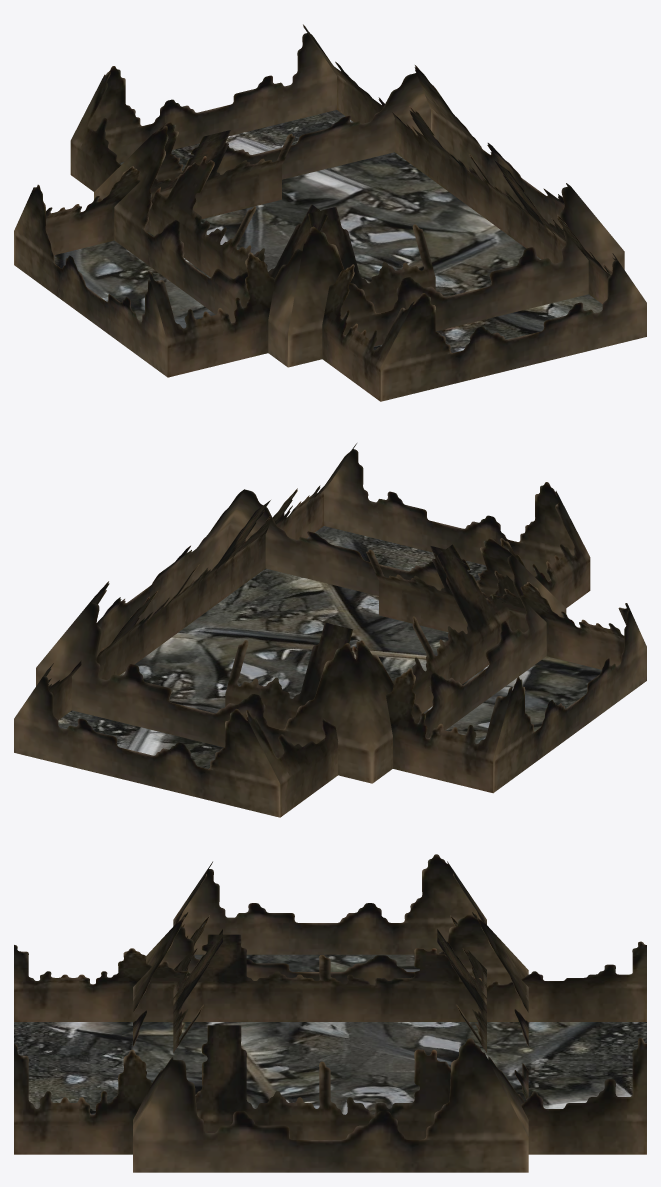
File: hpg_threeway_dam_hdtex.glb
3 renders of one model, top to bottom at view 1: azimuth 30°, elevation 25°; view 2: azimuth 150°, elevation 25°; view 3: azimuth 270°, elevation 25°, orthographic. The views are drawn at different scales.
Visible parts, largest first — view 1: 3waydam; view 2: 3waydam; view 3: 3waydam.
Part boxes in pixels (<box>): 3waydam: <box>14,24,646,401</box>; 3waydam: <box>14,443,646,817</box>; 3waydam: <box>14,854,646,1172</box>.
Bounding box in the file's own units: 20.87 × 5.6 × 25.63.
Materials: 2 (2 with a texture image).
